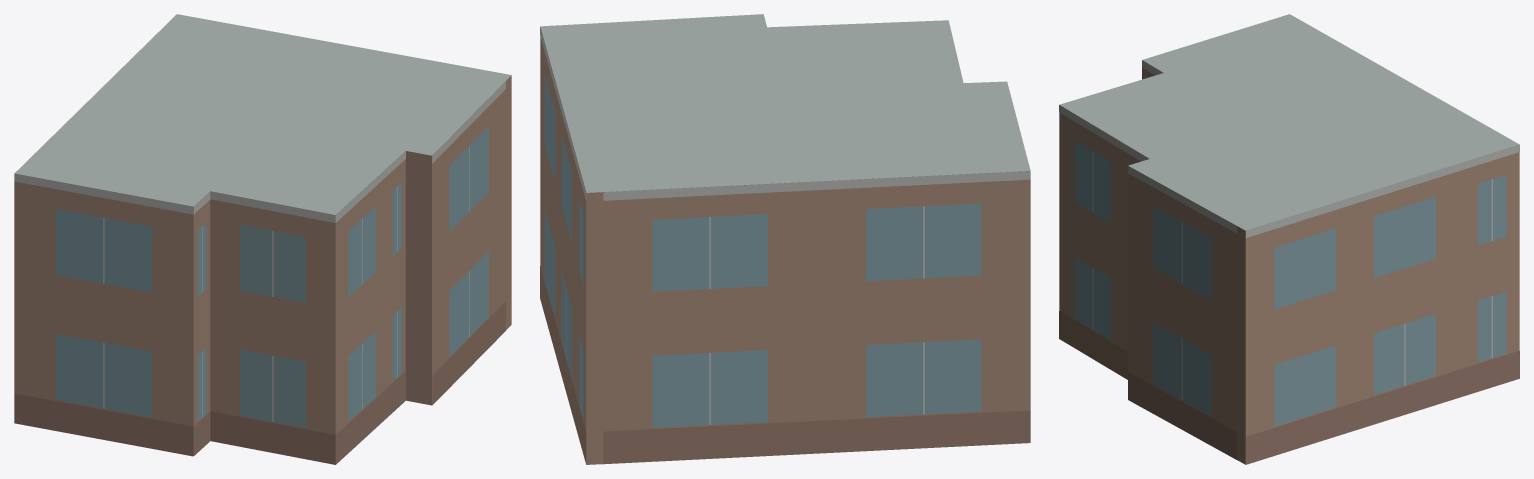
The model's file is survey-upis-32726641.glb.
The picture shows the model from 3 angles, left to right: view 1: azimuth 30°, elevation 25°; view 2: azimuth 150°, elevation 25°; view 3: azimuth 270°, elevation 25°; orthographic projection. The views are drawn at different scales.
Visible parts, largest first — view 1: survey-upis-32726641.tmp; view 2: survey-upis-32726641.tmp; view 3: survey-upis-32726641.tmp.
Boxes of the visible parts, bbox=[...] form: survey-upis-32726641.tmp: bbox=[14, 14, 511, 464]; survey-upis-32726641.tmp: bbox=[540, 14, 1030, 464]; survey-upis-32726641.tmp: bbox=[1059, 14, 1519, 464].
Size of the model in its own units: 15.1 by 7.6 by 13.56.
